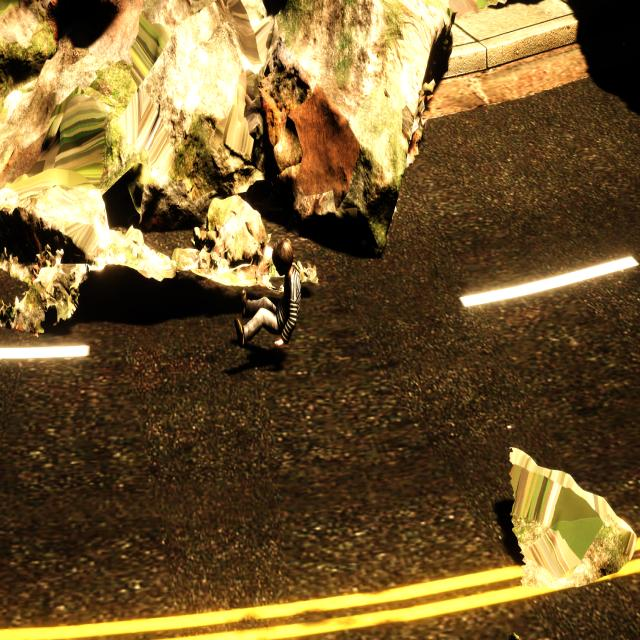Human: (231, 232, 303, 350)
